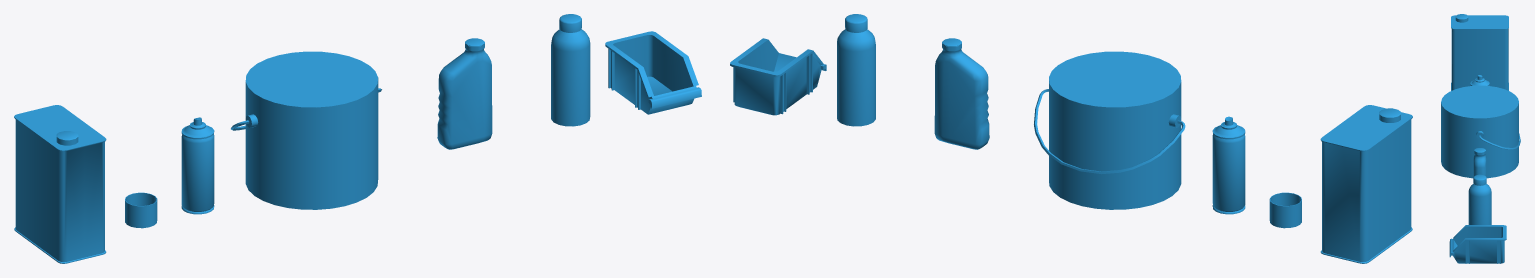
File: Small_Props.fbx
The picture shows the model from 3 angles, left to right: view 1: azimuth 30°, elevation 25°; view 2: azimuth 150°, elevation 25°; view 3: azimuth 270°, elevation 25°; orthographic projection. The views are drawn at different scales.
Parts seen in each view (by area): view 1: Paint_Big, Solvent, Box, Oil, Bottle, Paint_Small, Paint_Small_Cap; view 2: Paint_Big, Solvent, Oil, Box, Bottle, Paint_Small, Paint_Small_Cap, Paint_Big_Handle; view 3: Paint_Big, Solvent, Box, Bottle, Oil, Paint_Small, Paint_Big_Handle.
Boxes of the visible parts, x1,y1,x2,y2 form: Paint_Big: (245,51,378,209); Solvent: (14,105,106,263); Box: (605,31,701,114); Oil: (437,38,492,149); Bottle: (551,14,590,126); Paint_Small: (181,117,214,214); Paint_Small_Cap: (125,192,157,228); Paint_Big: (1049,51,1181,209); Solvent: (1320,105,1412,263); Oil: (934,38,989,149); Box: (730,38,826,115); Bottle: (837,14,875,126); Paint_Small: (1212,116,1245,214); Paint_Small_Cap: (1269,192,1301,228); Paint_Big_Handle: (1034,89,1185,174); Paint_Big: (1441,85,1518,178); Solvent: (1451,14,1508,90); Box: (1449,225,1506,263); Bottle: (1468,174,1491,224); Oil: (1473,148,1486,176); Paint_Small: (1470,75,1489,85); Paint_Big_Handle: (1479,133,1520,149).
Bounding box in the file's own units: 1.87 × 0.3385 × 0.3434.
